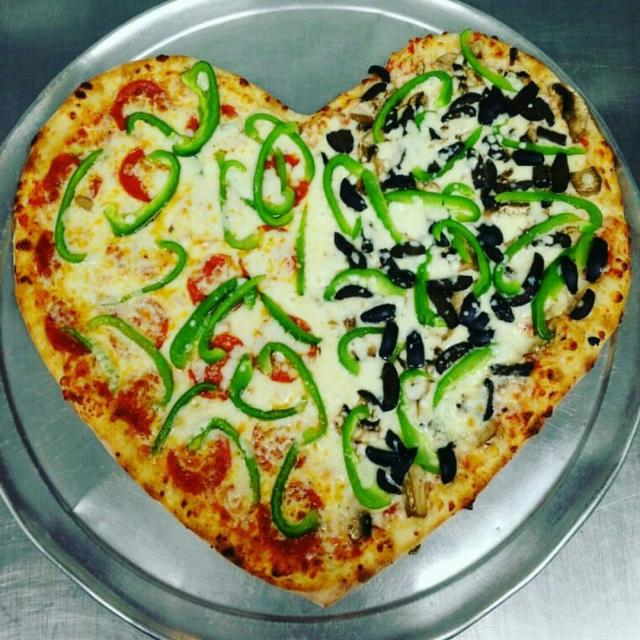black_olives: (468, 84, 562, 126), (512, 146, 574, 198), (371, 429, 415, 494), (556, 253, 596, 318), (362, 299, 401, 356), (469, 152, 505, 211), (426, 270, 462, 326), (510, 254, 543, 310), (462, 294, 494, 350), (432, 436, 462, 489), (474, 222, 510, 265), (339, 174, 372, 217), (487, 290, 523, 326), (382, 254, 419, 289), (490, 354, 539, 380), (472, 373, 499, 420), (364, 60, 392, 104), (332, 228, 364, 265), (581, 231, 607, 276), (326, 121, 358, 157), (405, 328, 430, 373), (435, 337, 467, 372), (375, 362, 401, 404), (395, 232, 428, 255)
peppers: (85, 309, 176, 404), (170, 271, 263, 362), (260, 335, 337, 443), (243, 104, 321, 191), (107, 146, 185, 231), (428, 211, 502, 300), (200, 416, 268, 505), (146, 371, 211, 458), (268, 438, 328, 532), (372, 68, 450, 140), (496, 180, 606, 230), (340, 405, 388, 513), (497, 210, 567, 284), (253, 116, 296, 236), (229, 348, 296, 425), (52, 147, 93, 262), (176, 60, 220, 165), (217, 155, 262, 249), (320, 148, 368, 236), (363, 158, 413, 242), (489, 117, 588, 156), (389, 182, 481, 223), (456, 25, 512, 91), (260, 288, 321, 346), (130, 237, 188, 298), (395, 403, 446, 470), (324, 262, 412, 300), (533, 261, 572, 339), (289, 202, 317, 290), (436, 348, 484, 397), (334, 320, 372, 370), (126, 102, 170, 140)
pizza: (8, 27, 640, 610)
